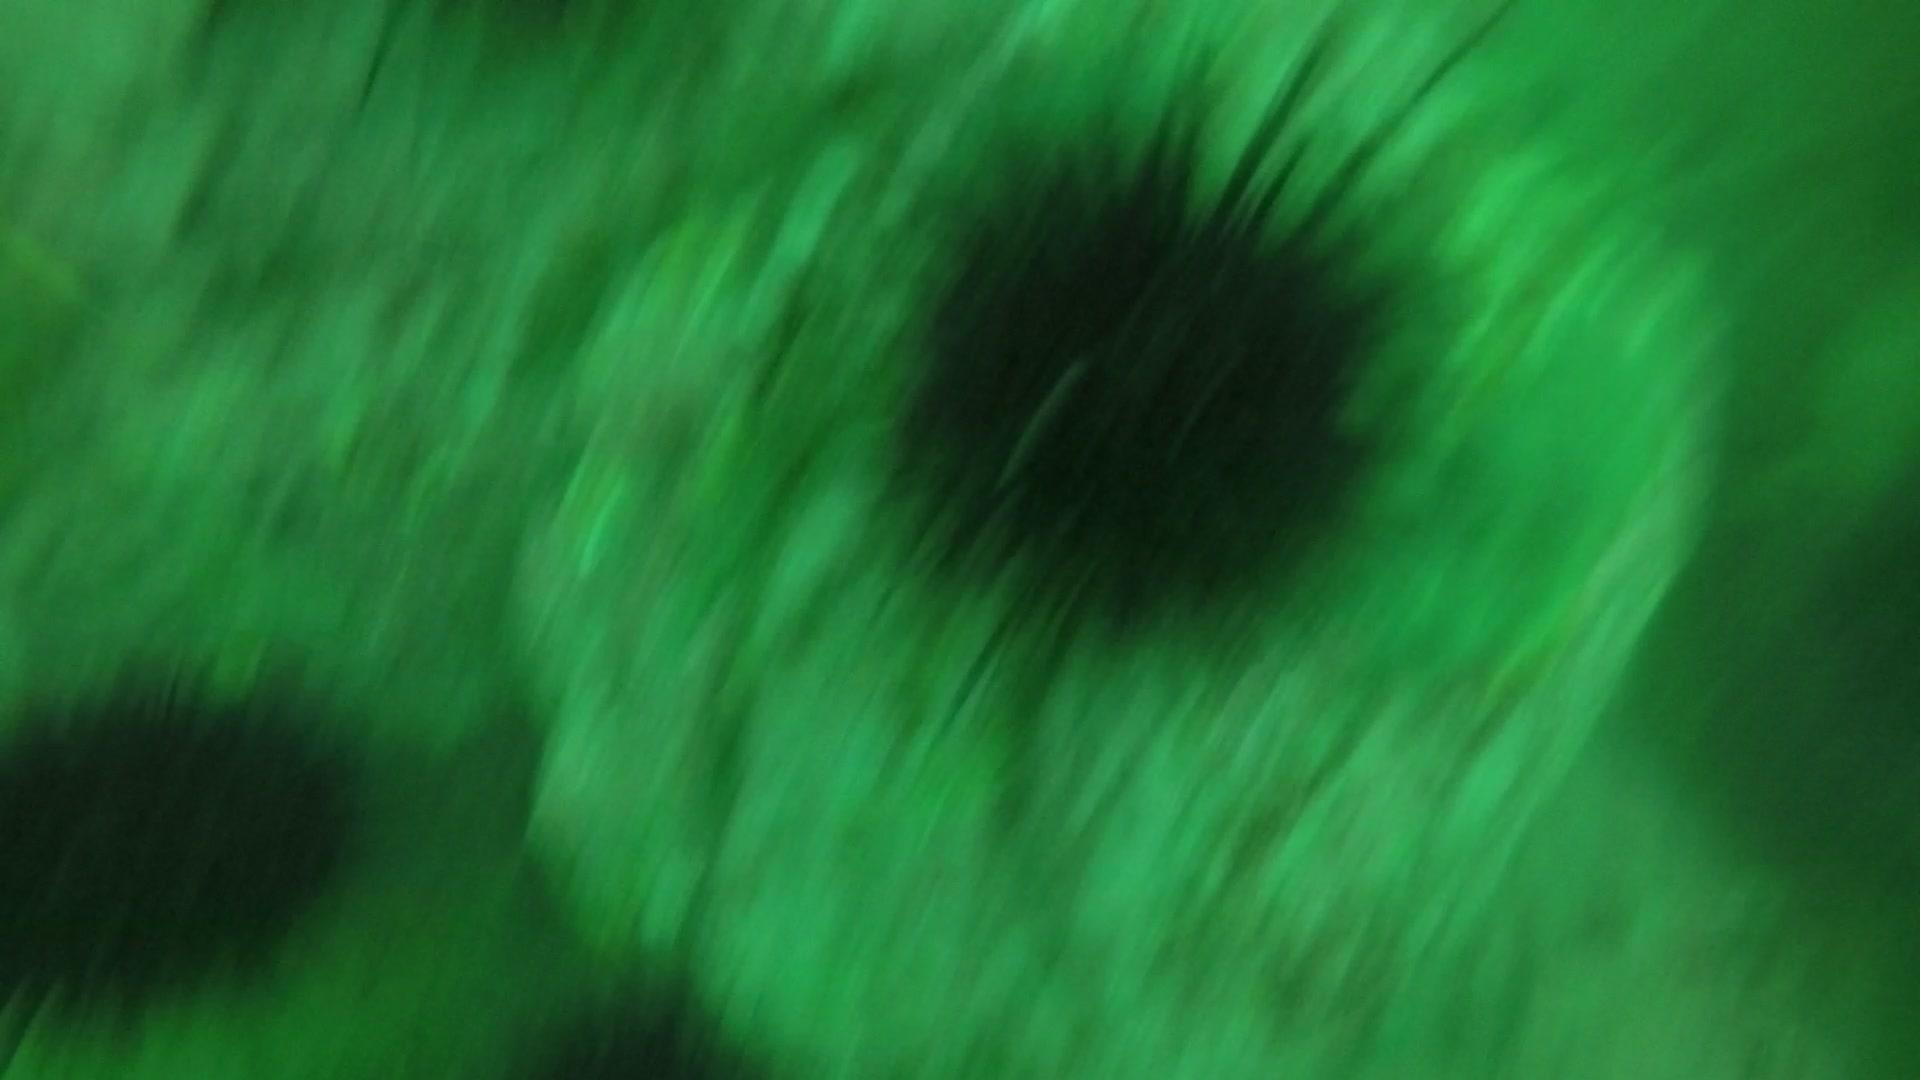echinus: (868, 88, 1422, 680), (1, 651, 371, 1039), (498, 949, 789, 1079)
